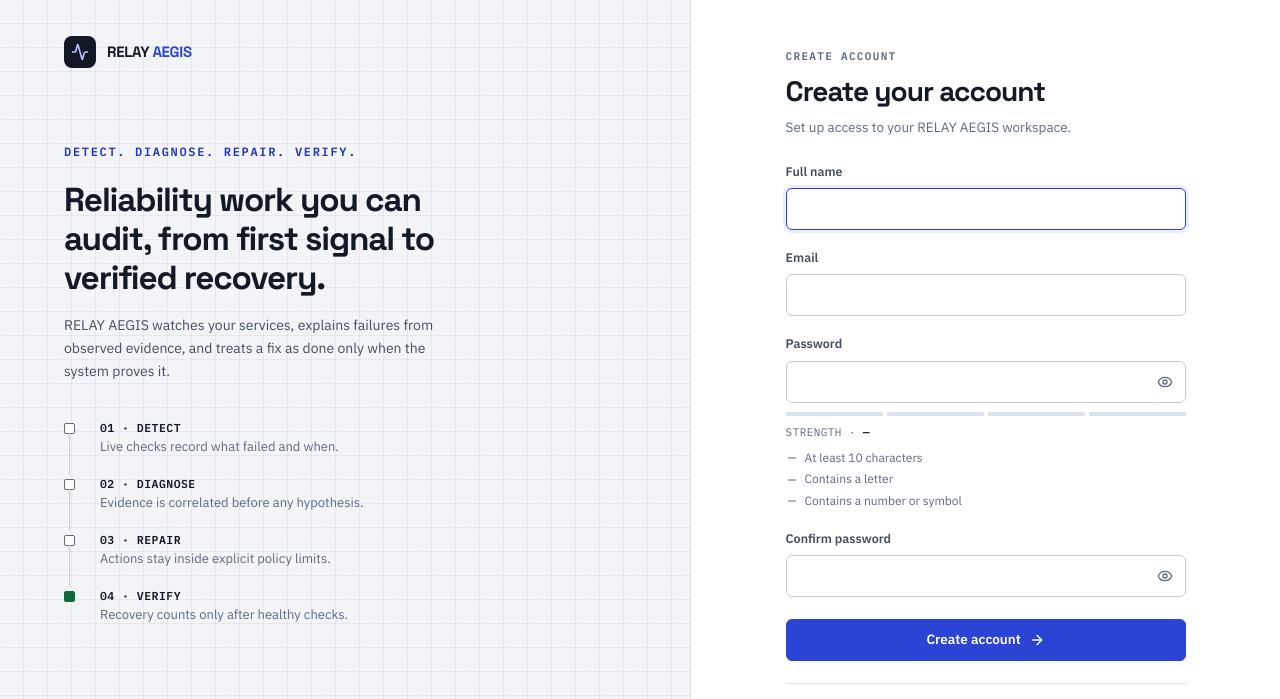
Test: registration › shows a live strength indicator and blocks weak or mismatched passwords client-side
The image size is (1280, 699).
Type "abcdefghij" into the password field labelled "Password" at (986, 382), box [786,361,1186,403]
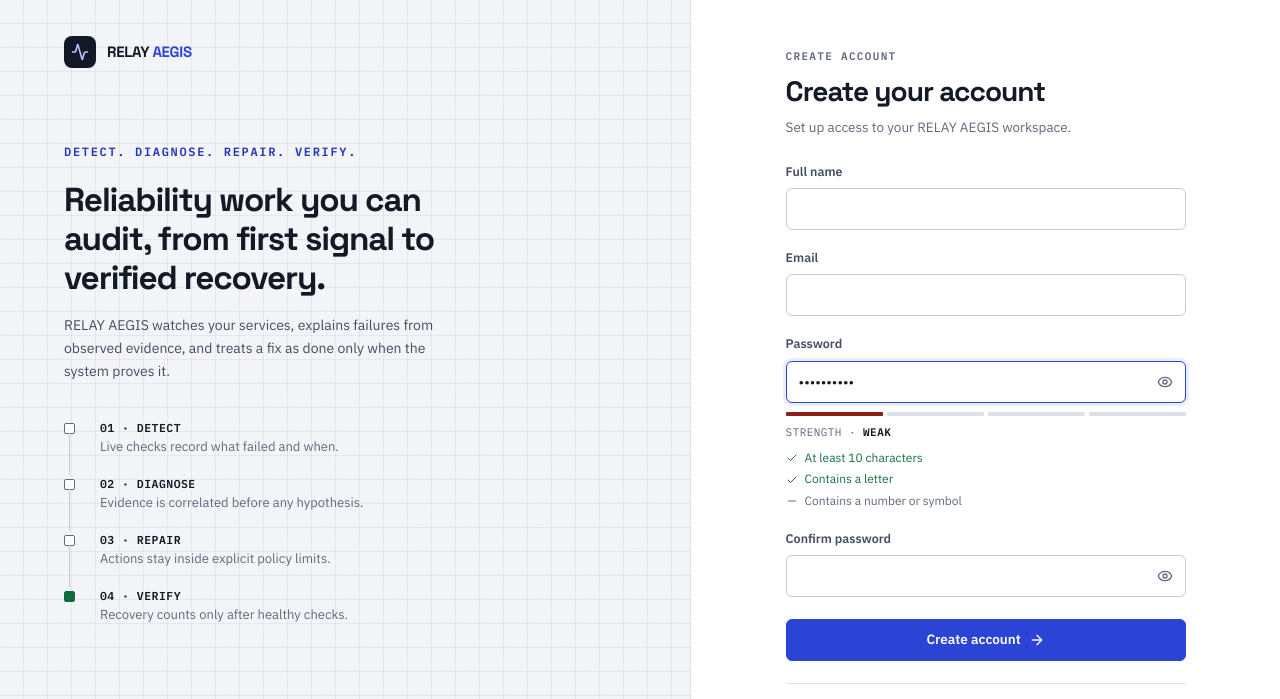
Now the text "Weak" is shown, box [863,425,891,439]
Type "-42X" into the password field labelled "Password" at (986, 382), box [786,361,1186,403]
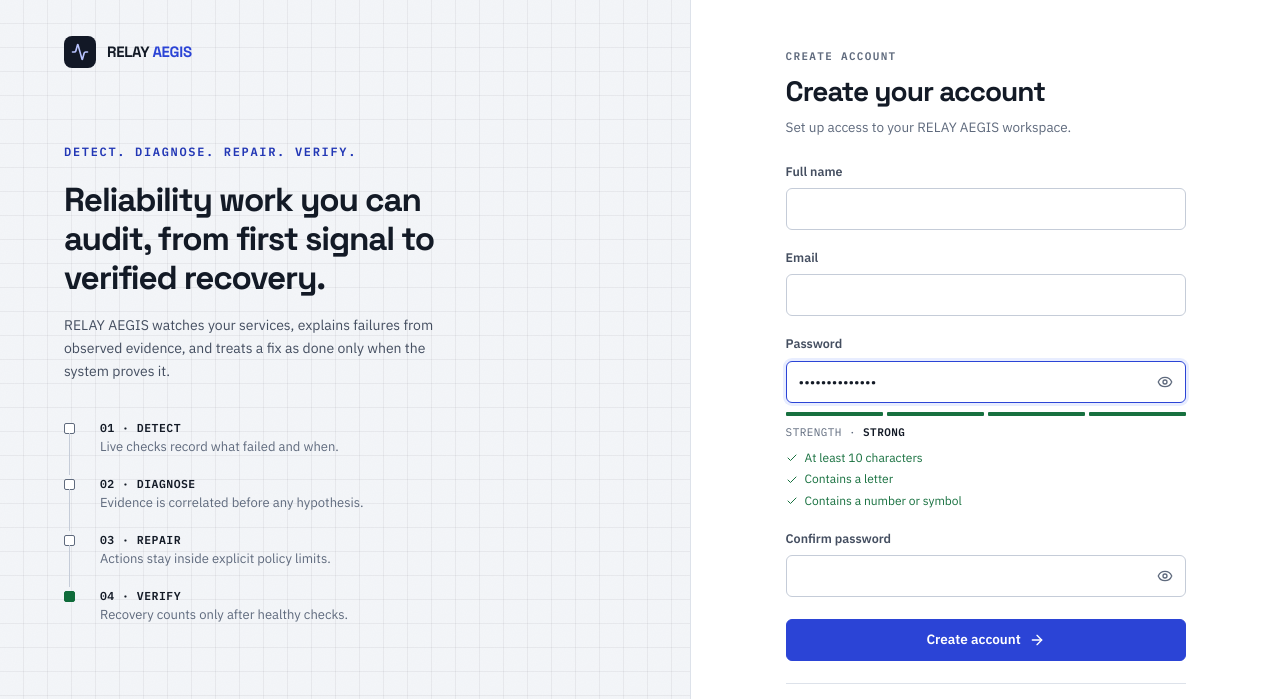
Now the text "Strong" is shown, box [863,425,905,439]
Type "different-1" into the password field labelled "Confirm password" at (986, 576), box [786,555,1186,597]
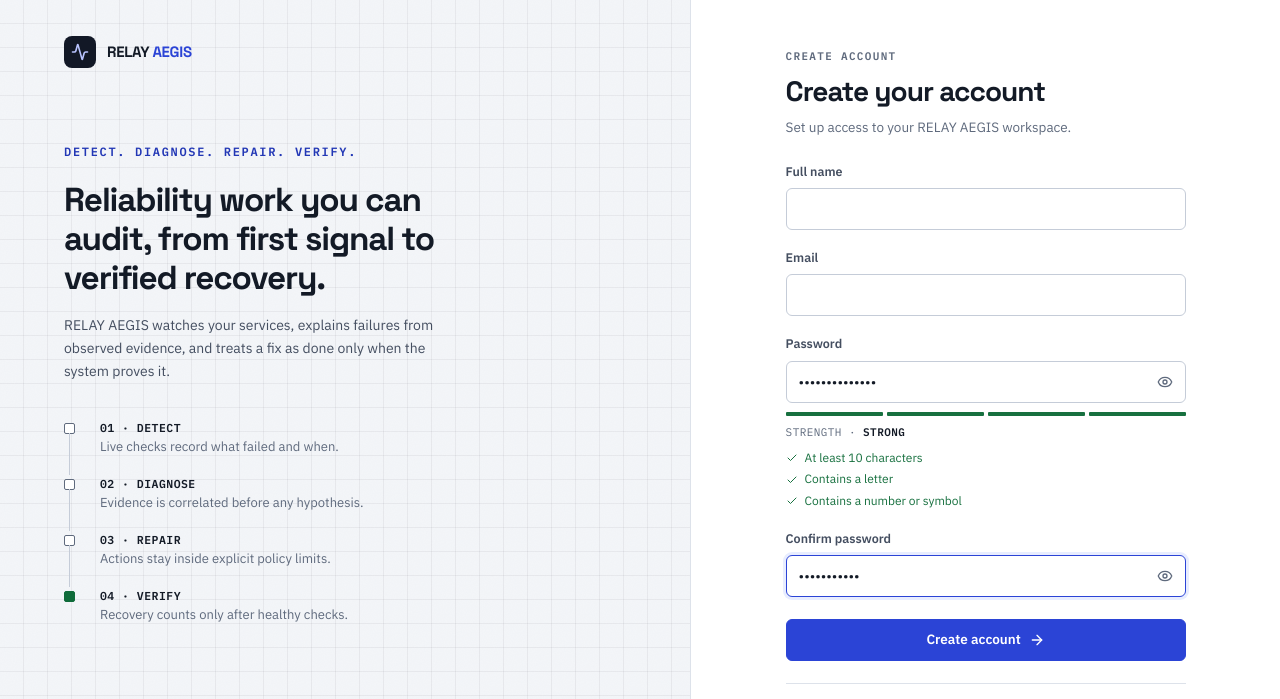
Click the button "Create account" at (986, 640), box [786,619,1186,661]
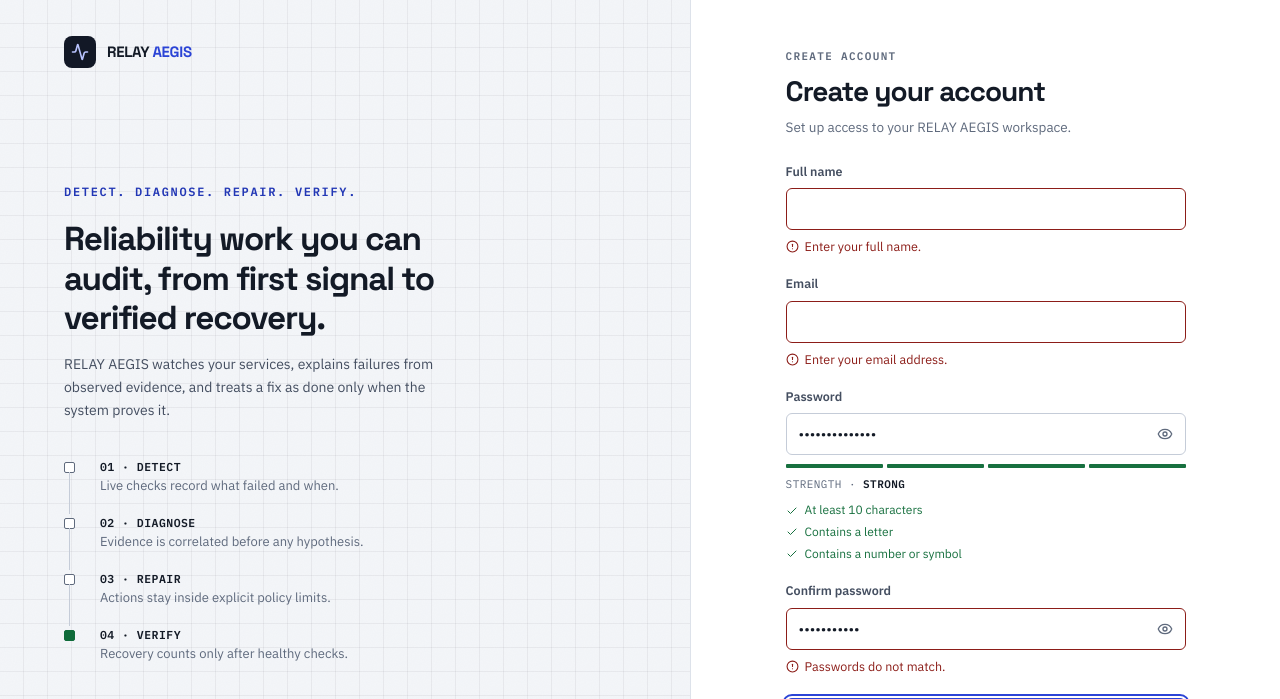
Now the text "Enter your full name." is shown, box [786,238,921,254]
Now the text "Passwords do not match." is shown, box [786,658,945,674]
